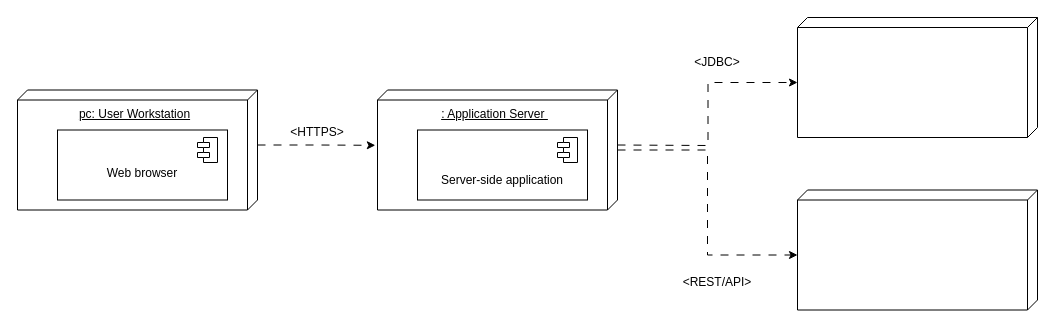
This 1055x328 diagram has some shape labels left out. The shapes that lost their labels are listed below. From the top down, each one's centre as x and y in pixels, then its label:
At point (917, 77): "database: Databse Server".
At point (917, 249): ": External Systems".
